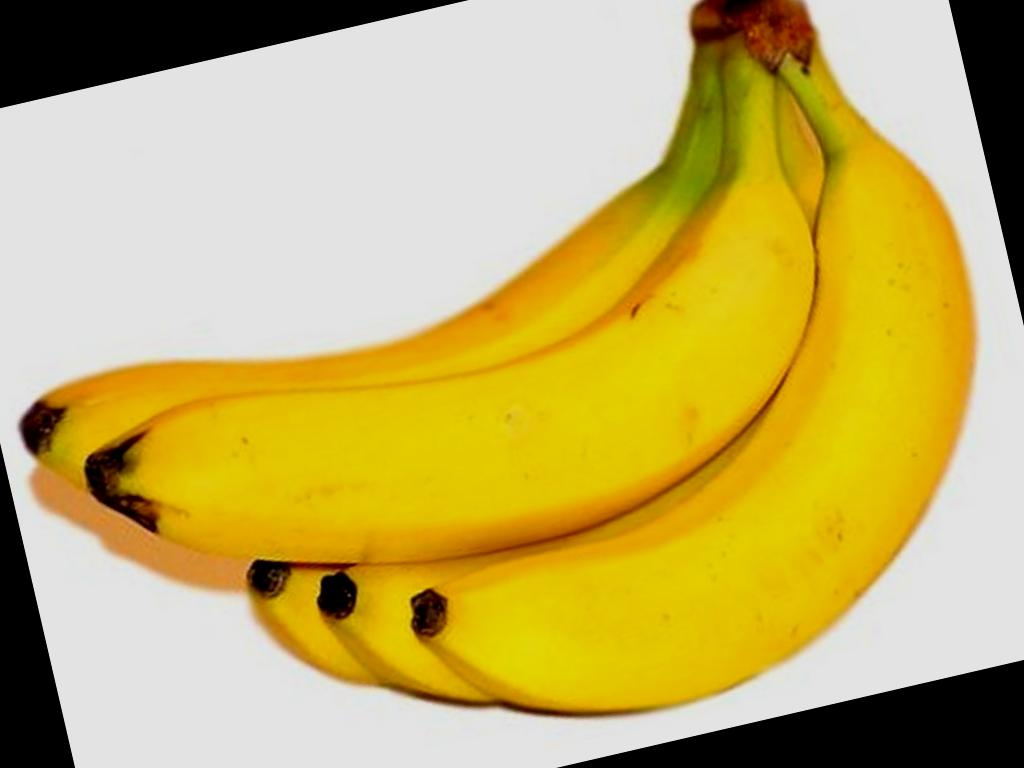Banana Ripe: (0, 115, 1024, 768)
